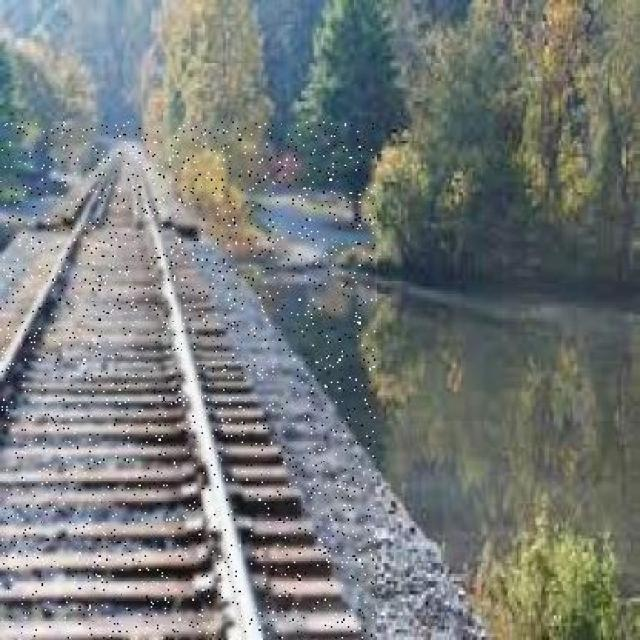rail: (0, 122, 375, 640)
